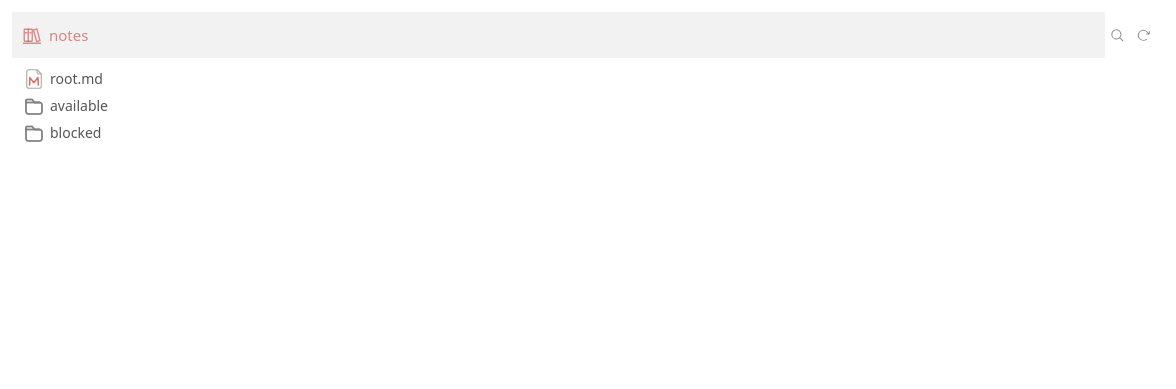
Scenario: keeps available matches while a failed descendant scope is retried
Click the button named "搜索工作区" at {"x": 1118, "y": 35}, box [1105, 22, 1130, 48]
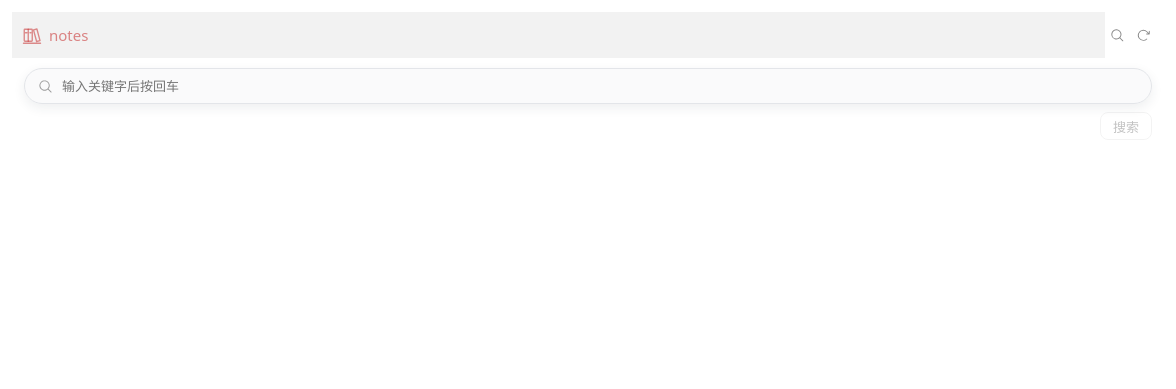
Type "needle" into the search field named "搜索工作区" at {"x": 598, "y": 86}, box [53, 72, 1144, 100]
Then press Enter
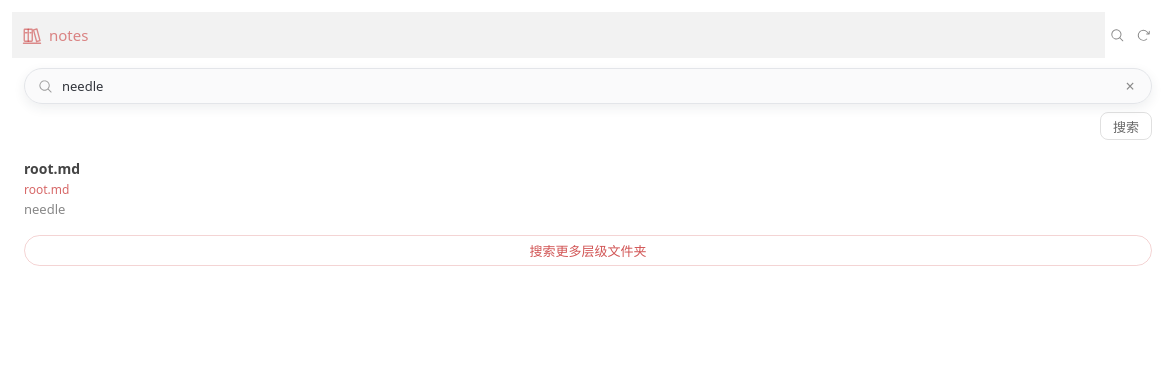
Click the button "搜索更多层级文件夹" at {"x": 588, "y": 250}, box [24, 234, 1152, 266]
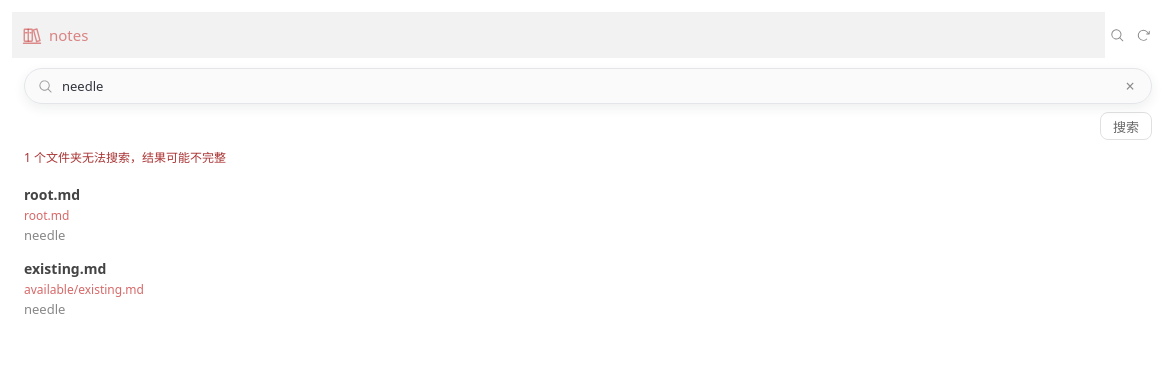
Expected: the button "root.md root.md needle" is shown, [12, 178, 1164, 252]
Expected: the message reads "1 个文件夹无法搜索，结果可能不完整", [24, 149, 226, 166]
Click the button "搜索" at {"x": 1126, "y": 126}, box [1100, 112, 1152, 140]
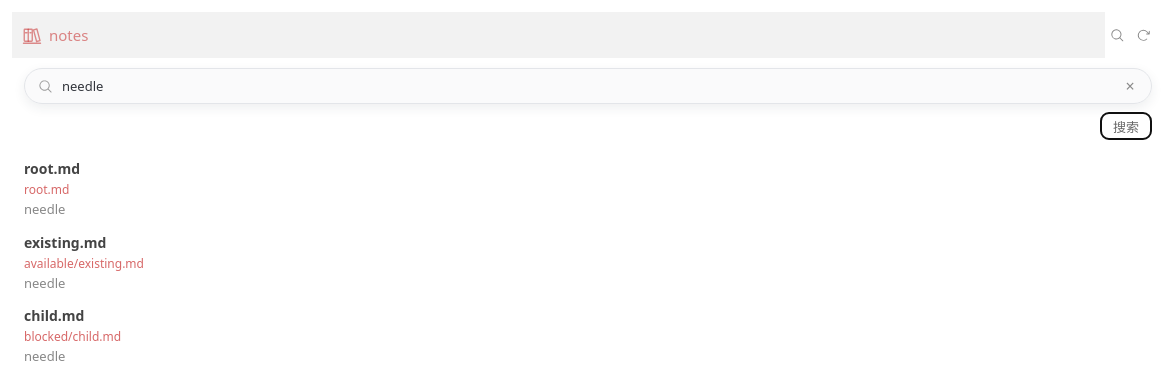
Expected: the button "root.md root.md needle" is shown, [12, 152, 1164, 226]
Expected: the button "existing.md available/existing.md needle" is shown, [12, 226, 1164, 299]
Expected: the button "child.md blocked/child.md needle" is shown, [12, 299, 1164, 373]
